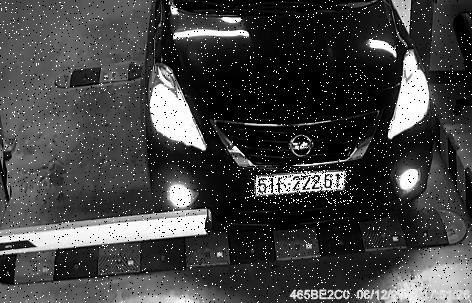License-plate: (249, 168, 355, 206)
